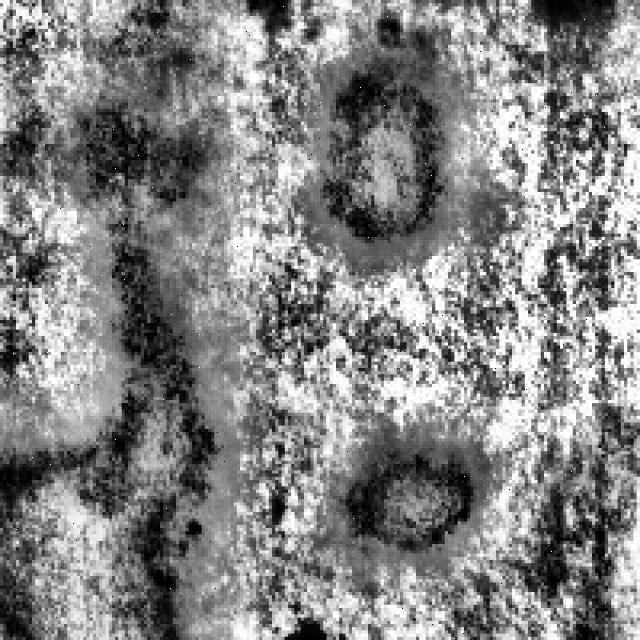Scratches: (3, 252, 221, 634), (323, 25, 458, 244), (64, 74, 221, 240), (336, 432, 489, 554)
